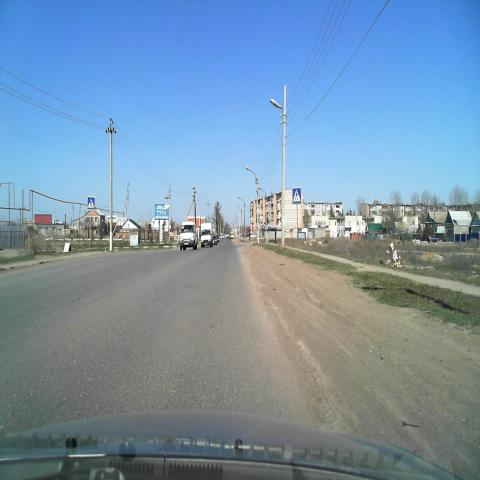5_19_1: (292, 187, 302, 205), (86, 196, 96, 212)
